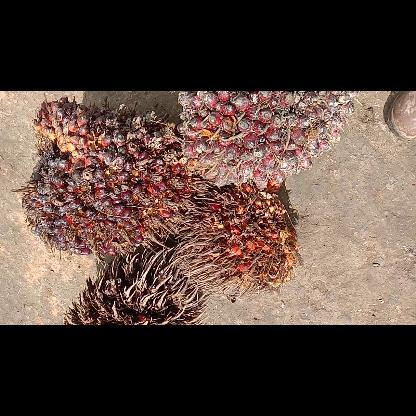Janjang kosong: (59, 252, 211, 322)
Kurang masak: (174, 91, 356, 190)
TBS masak: (20, 101, 204, 260)
